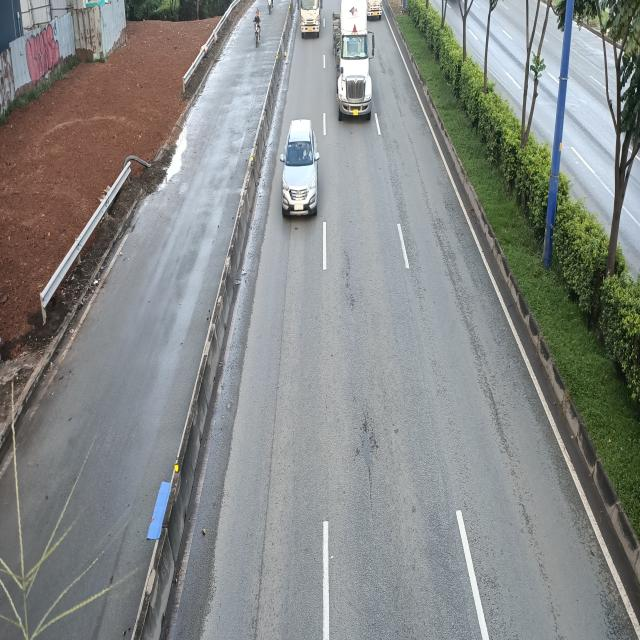car: (279, 118, 318, 217)
container: (332, 0, 375, 118)
truck: (296, 0, 321, 37)
